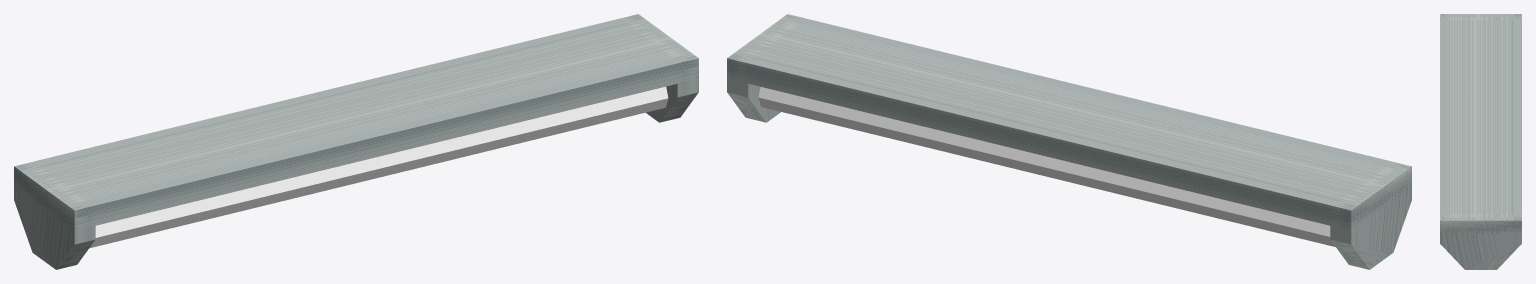
Rendered from ceiling_light.glb.
3 renders of one model, left to right at view 1: azimuth 30°, elevation 25°; view 2: azimuth 150°, elevation 25°; view 3: azimuth 270°, elevation 25°, orthographic. The views are drawn at different scales.
Visible parts, largest first — view 1: ceiling_light_body, celing_light_tubes; view 2: ceiling_light_body, celing_light_tubes; view 3: ceiling_light_body.
Part boxes in pixels (left/top/right/bottom): ceiling_light_body: left=14, top=14, right=698, bottom=269; celing_light_tubes: left=89, top=86, right=668, bottom=248; ceiling_light_body: left=727, top=14, right=1411, bottom=269; celing_light_tubes: left=758, top=87, right=1335, bottom=246; ceiling_light_body: left=1440, top=14, right=1521, bottom=269.
Bounding box in the file's own units: 5.45 × 0.608 × 0.9134.
2 materials, 1 textured.
